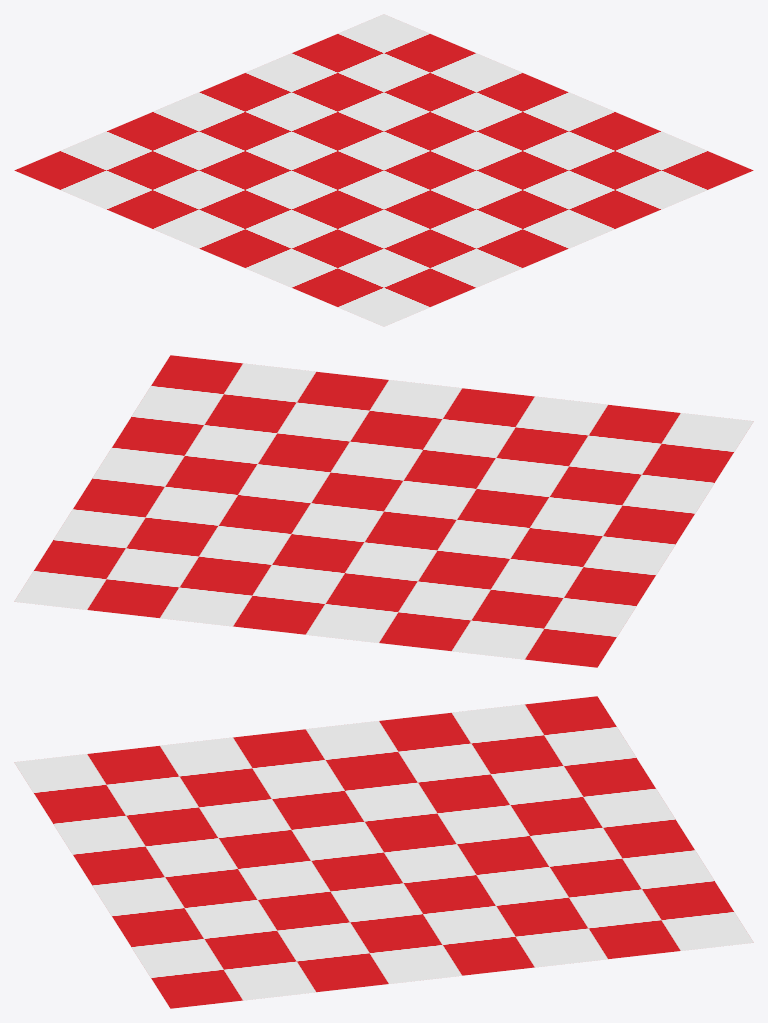
File: picnic.glb
3 views of the same model, one above another, from view 1: azimuth 30°, elevation 25°; view 2: azimuth 150°, elevation 25°; view 3: azimuth 270°, elevation 25° (orthographic). The views are drawn at different scales.
Visible parts, largest first — view 1: Plane.004; view 2: Plane.004; view 3: Plane.004.
Boxes of the visible parts, left/top/right/bottom form: Plane.004: left=14, top=14, right=753, bottom=326; Plane.004: left=14, top=355, right=753, bottom=667; Plane.004: left=14, top=696, right=753, bottom=1008.
Size of the model in its own units: 2 by 0 by 2.
1 material, 1 textured.
